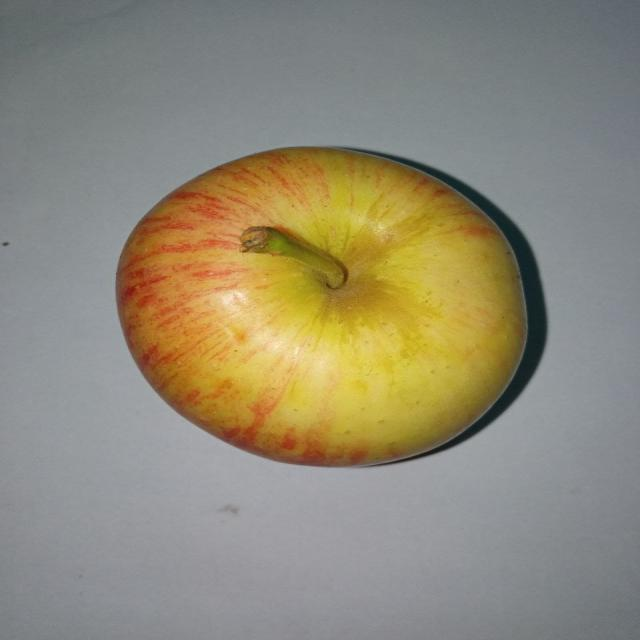fresh_apple: (111, 147, 527, 465)
